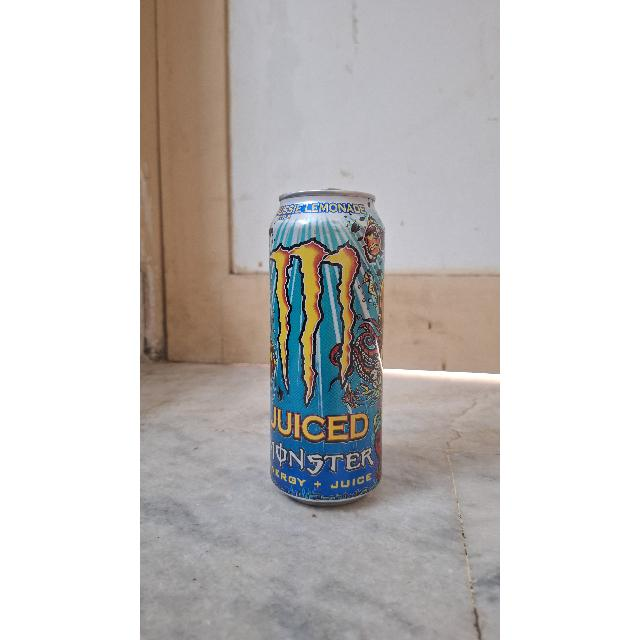Monster Aussie Lemonade: (264, 184, 394, 516)
